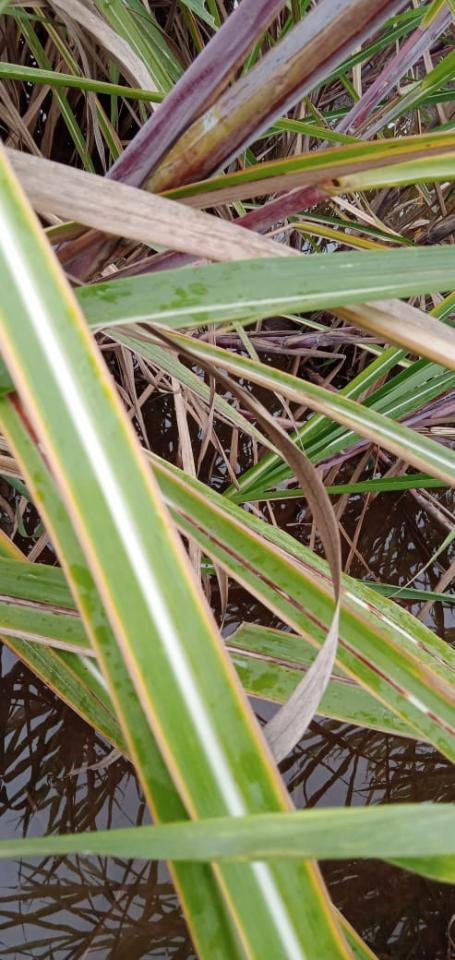RedRot: (172, 504, 330, 634), (338, 635, 454, 738), (340, 586, 454, 675), (251, 529, 334, 588), (225, 644, 311, 672), (0, 593, 82, 619), (330, 673, 362, 687)
Yellow: (6, 165, 297, 814), (1, 318, 201, 821), (0, 417, 160, 822), (156, 130, 454, 198), (173, 521, 323, 649), (336, 657, 454, 761), (287, 137, 454, 173), (307, 858, 353, 958), (212, 861, 253, 959), (166, 860, 202, 959), (332, 905, 381, 959), (399, 150, 454, 164)
